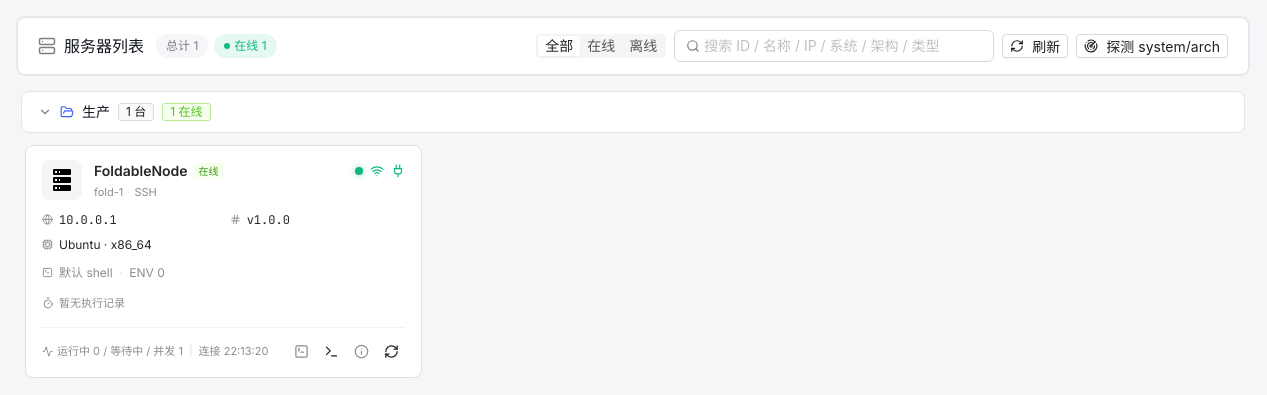
Test case: <ServersPage /> › 点击项目分组头可折叠/展开卡片
expect the text "FoldableNode" is shown: met, box [94, 160, 188, 181]
 点击分组头折叠
Click the text "生产" at [96, 112], box [82, 102, 110, 122]
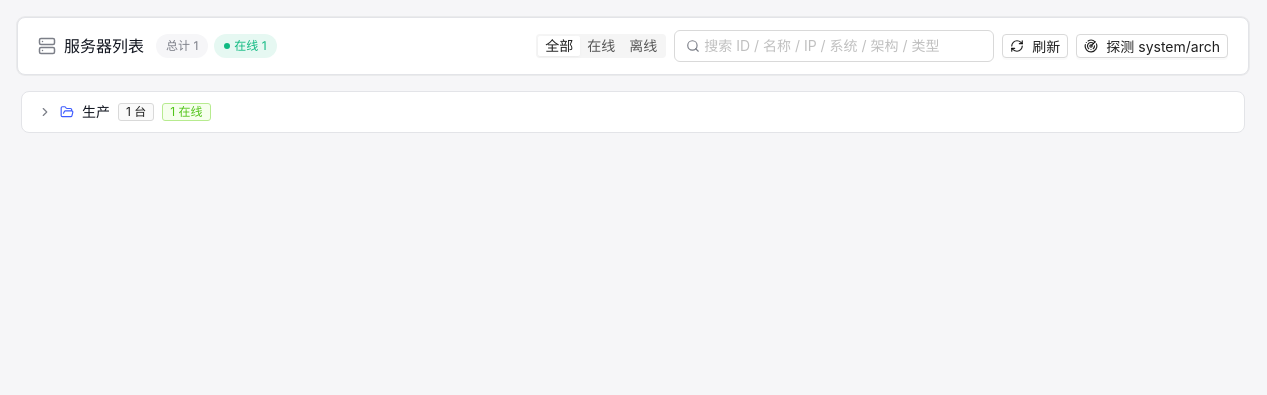
expect the text "FoldableNode" is gone: met
Click the text "生产" at [96, 112], box [82, 102, 110, 122]
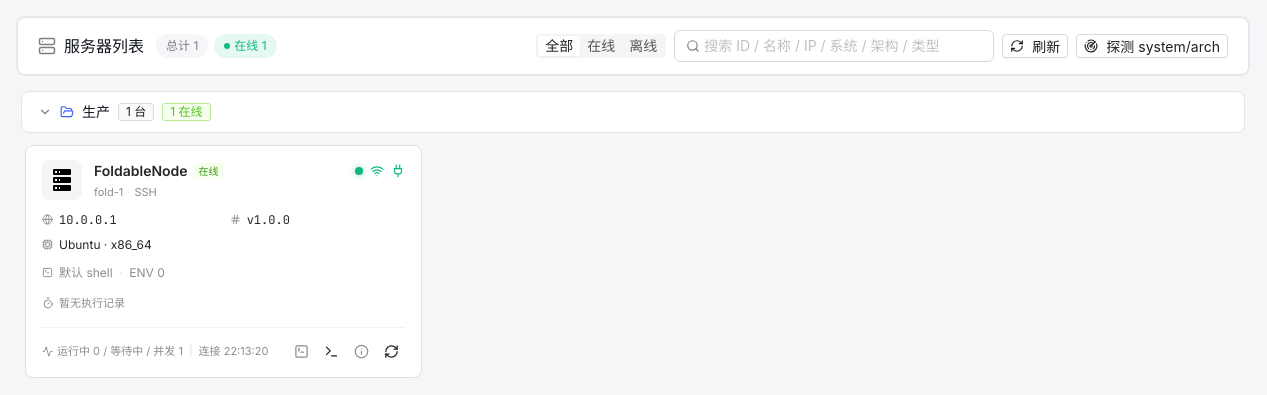
expect the text "FoldableNode" is shown: met, box [94, 160, 188, 181]
